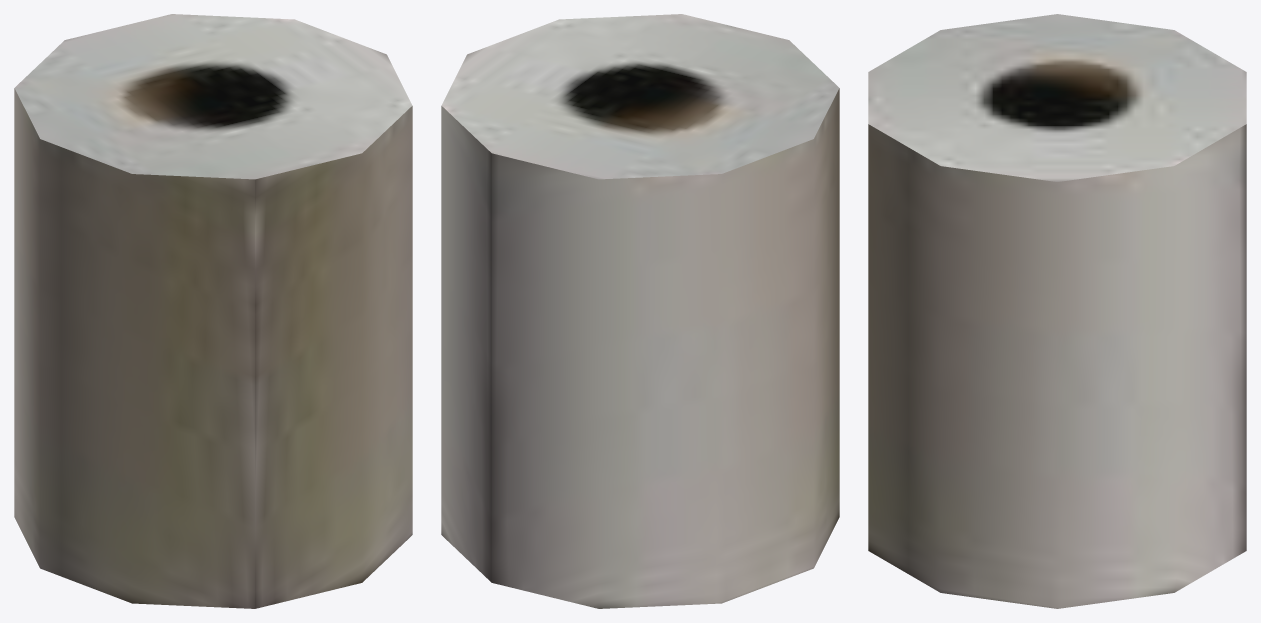
Rendered from toilet_paper.FBX.
The picture shows the model from 3 angles, left to right: view 1: azimuth 30°, elevation 25°; view 2: azimuth 150°, elevation 25°; view 3: azimuth 270°, elevation 25°; orthographic projection.
Visible parts, largest first — view 1: toilet_paper; view 2: toilet_paper; view 3: toilet_paper.
Part boxes in pixels (left/top/right/bottom): toilet_paper: left=14, top=14, right=412, bottom=608; toilet_paper: left=441, top=14, right=839, bottom=608; toilet_paper: left=868, top=14, right=1246, bottom=608.
Bounding box in the file's own units: 8.78 × 10.4 × 8.35.
